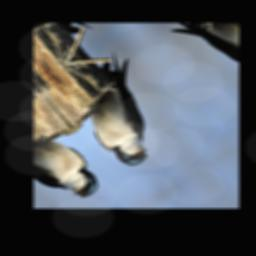Swallow: (52, 47, 192, 173)
